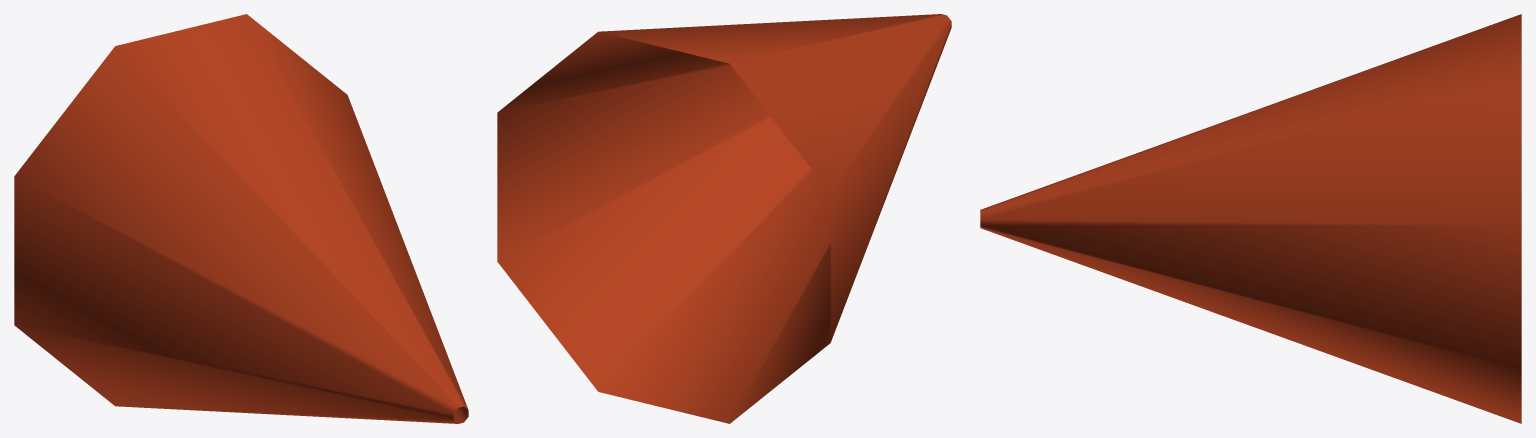
3 renders of one model, left to right at view 1: azimuth 30°, elevation 25°; view 2: azimuth 150°, elevation 25°; view 3: azimuth 270°, elevation 25°, orthographic. The views are drawn at different scales.
Parts seen in each view (by area): view 1: fx_Cone; view 2: fx_Cone; view 3: fx_Cone.
Part boxes in pixels (x1,y1,x2,y2): fx_Cone: (14, 14, 468, 423); fx_Cone: (497, 14, 951, 423); fx_Cone: (980, 14, 1521, 423).
Bounding box in the file's own units: 14.75 × 15.23 × 21.47.
